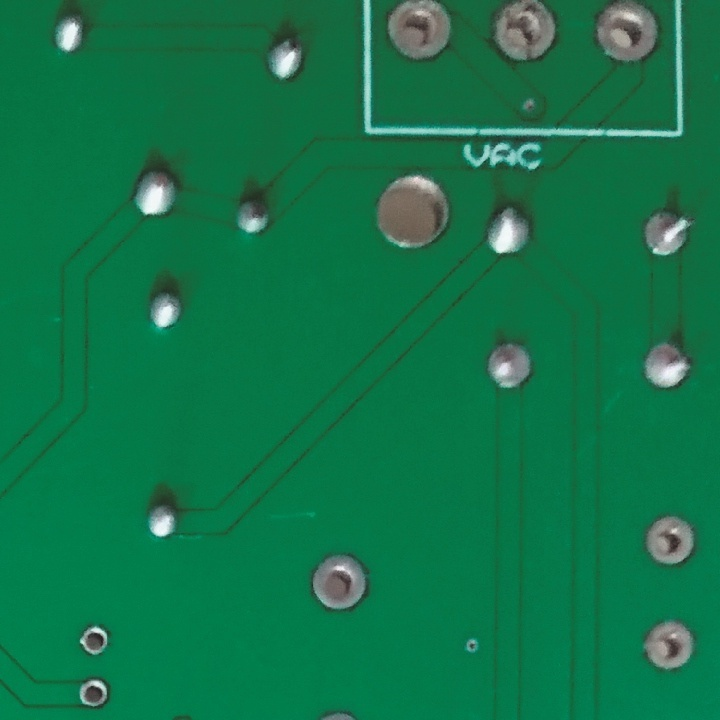F: (593, 1, 661, 69), (386, 1, 457, 66), (307, 550, 371, 618), (492, 1, 561, 64), (641, 617, 696, 674), (643, 512, 698, 569), (641, 206, 695, 263), (641, 340, 693, 390), (482, 340, 531, 391), (77, 671, 113, 714), (78, 621, 113, 659)
